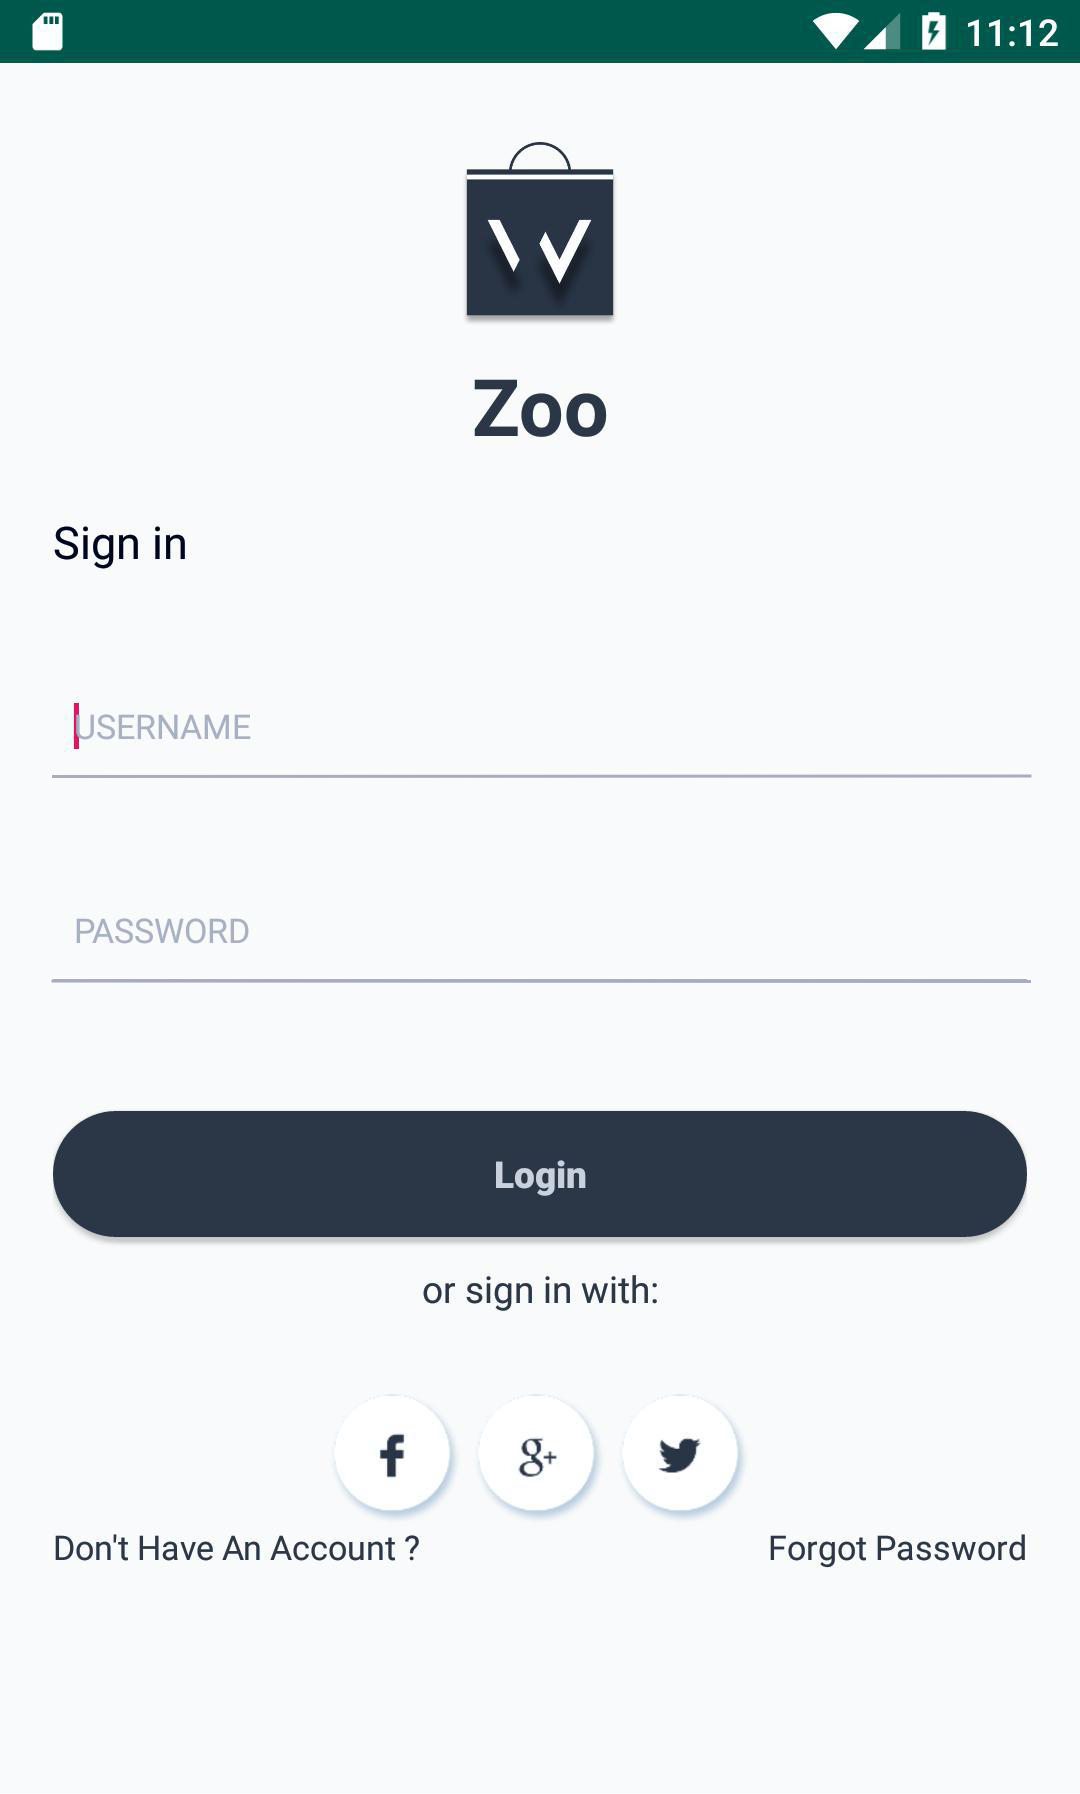EditText: (53, 702, 1033, 779), (51, 916, 1031, 984)
Icon: (334, 1393, 452, 1513), (478, 1394, 596, 1512), (623, 1395, 739, 1512)
Image: (466, 142, 615, 317)
Text: (55, 1531, 421, 1563), (769, 1533, 1026, 1568), (421, 1274, 660, 1312), (474, 379, 607, 438), (55, 525, 187, 570), (77, 714, 252, 741), (76, 918, 249, 944)
TextButton: (53, 1111, 1027, 1239)
UpperTaskBar: (1, 1, 1080, 64)
